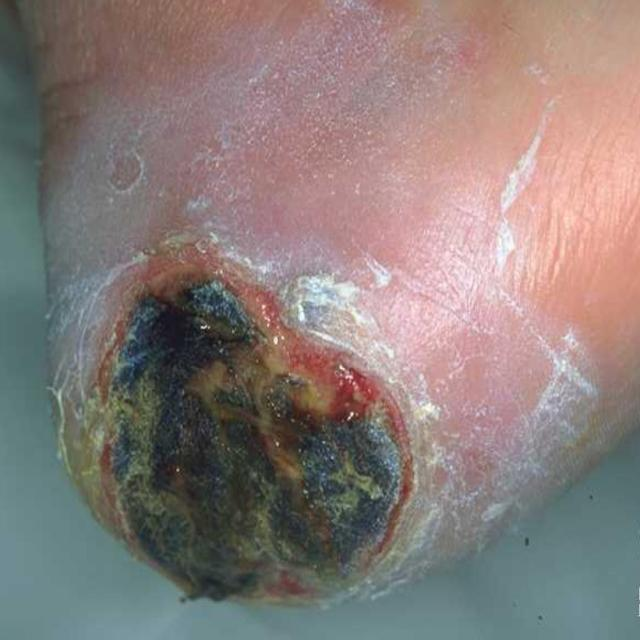Unstageable: (88, 247, 410, 598)
